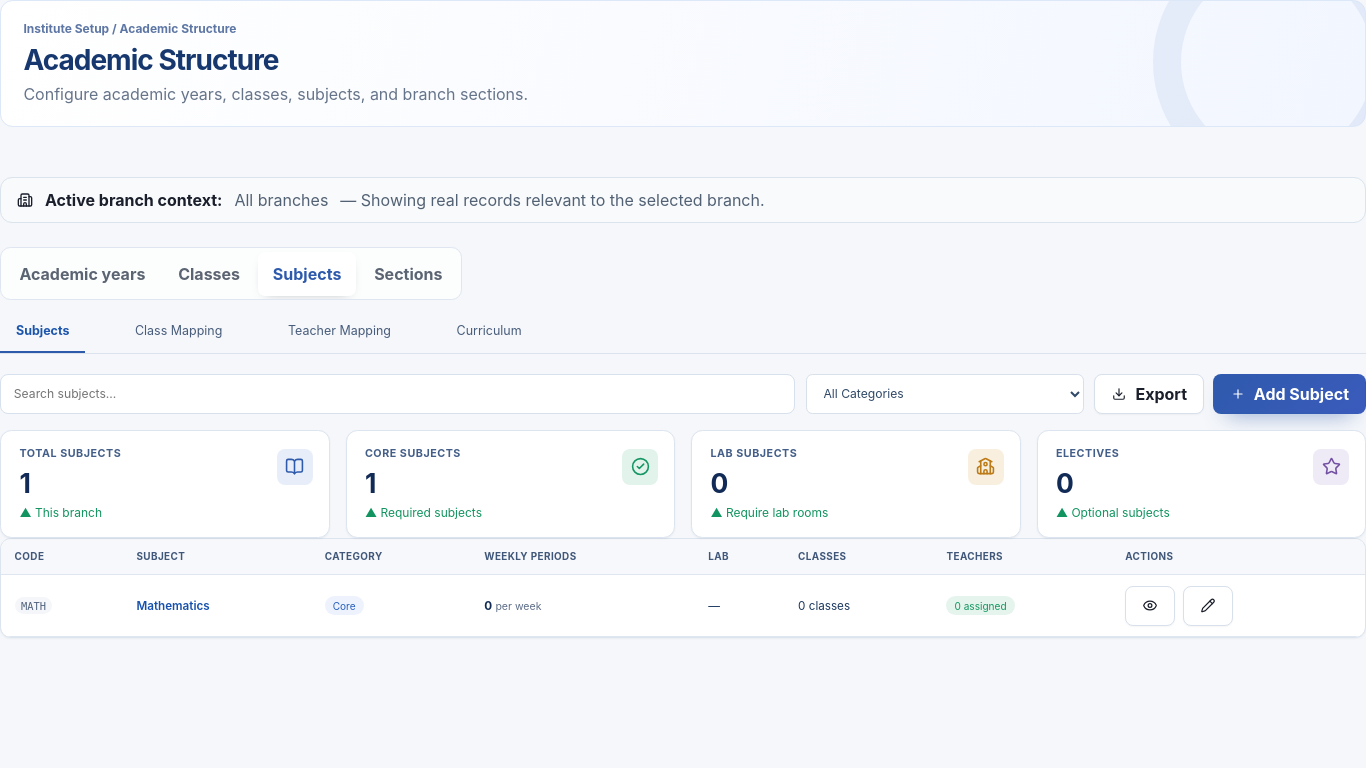
Scenario: AcademicStructurePage › shows server field errors with the trace reference in the modal
Expected: the text "Mathematics" is shown, [136, 598, 210, 612]
Click the button named "Edit Mathematics".
click(1208, 606)  # box [1183, 586, 1233, 626]
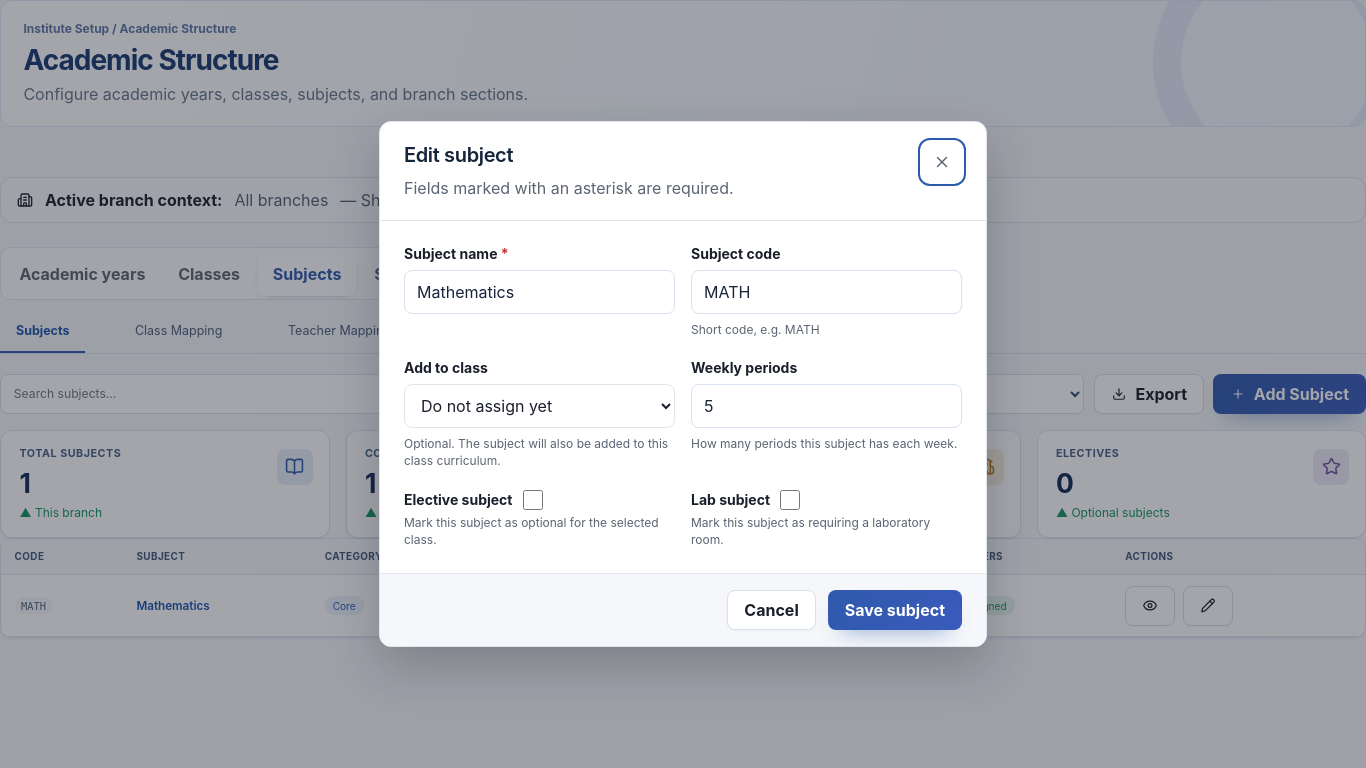
Click the button "Save subject".
click(895, 610)  # box [828, 590, 962, 630]
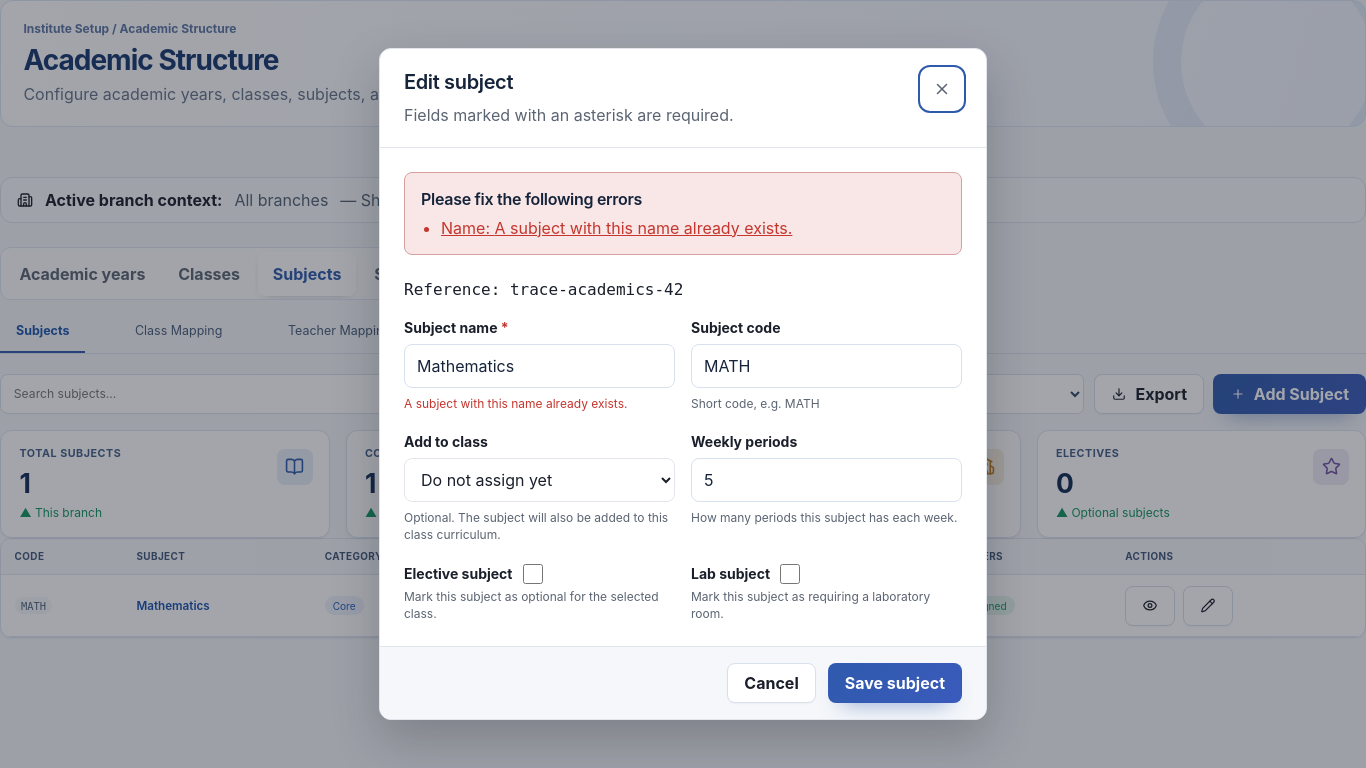
Expected: the message shows "A subject with this name already exists.", [441, 218, 792, 238]
Expected: the dialog "Edit subject" shows "Reference: trace-academics-42", [379, 48, 987, 720]
